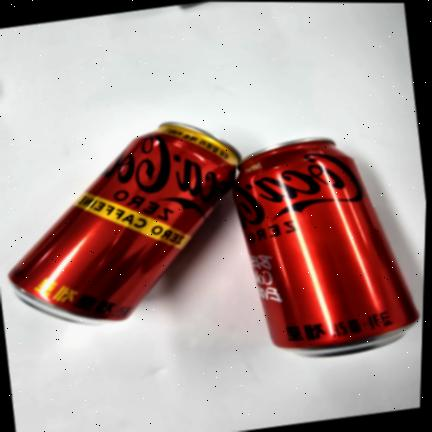can_coke_decaf: (8, 121, 245, 328)
can_coke_zero: (226, 140, 423, 358)
